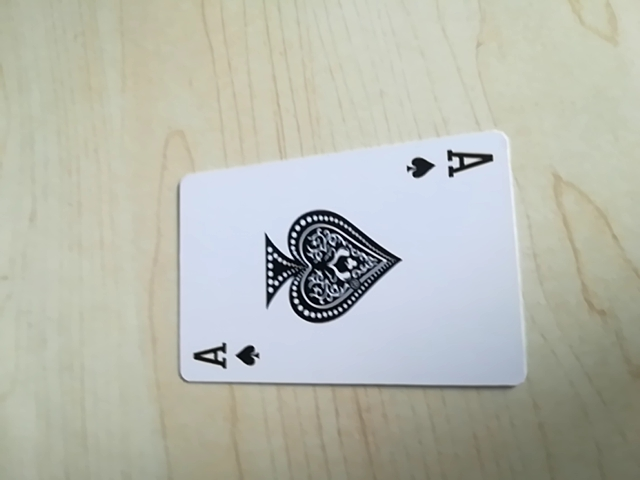ht a: (400, 142, 499, 189), (186, 338, 266, 376)
